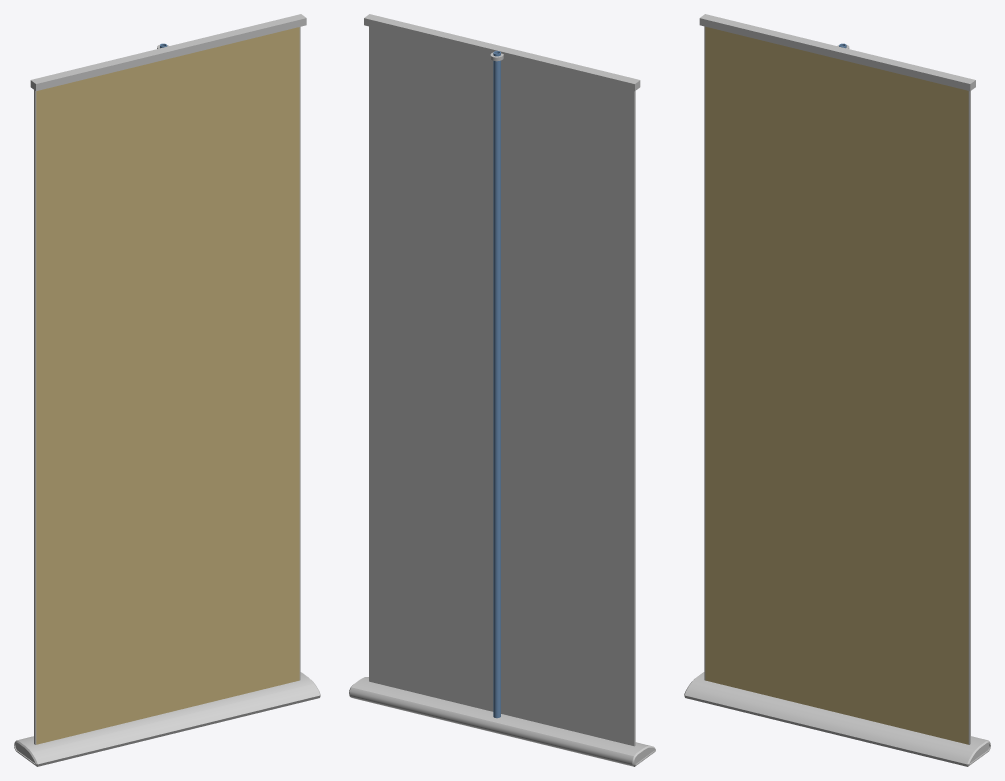
Rendered from Rollup.fbx.
The picture shows the model from 3 angles, left to right: view 1: azimuth 30°, elevation 25°; view 2: azimuth 150°, elevation 25°; view 3: azimuth 330°, elevation 25°; orthographic projection.
Visible parts, largest first — view 1: Rollup; view 2: Rollup; view 3: Rollup.
Part boxes in pixels (bbox=[...]): Rollup: bbox=[14, 14, 320, 766]; Rollup: bbox=[349, 14, 655, 766]; Rollup: bbox=[684, 14, 990, 766].
Bounding box in the file's own units: 79.45 × 180 × 11.21.
